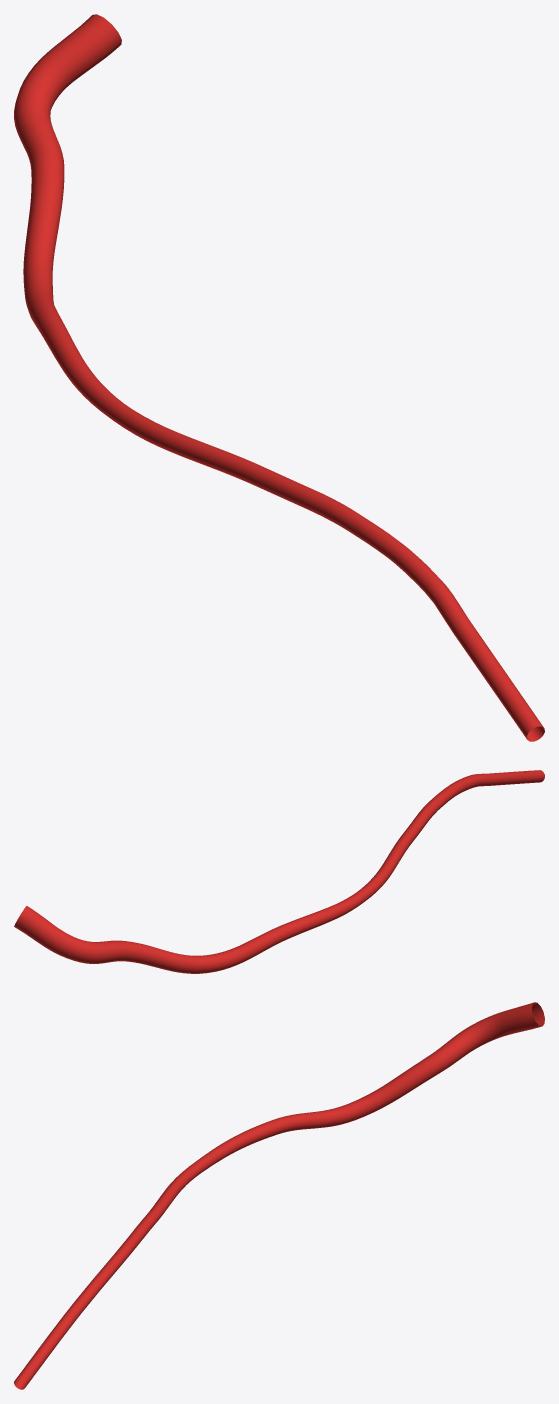
The model's file is circulatorio-maxillary-veins-l.glb.
3 views of the same model, one above another, from view 1: azimuth 30°, elevation 25°; view 2: azimuth 150°, elevation 25°; view 3: azimuth 330°, elevation 25° (orthographic). The views are drawn at different scales.
Parts seen in each view (by area): view 1: Maxillary veins.l; view 2: Maxillary veins.l; view 3: Maxillary veins.l.
Part boxes in pixels (left/top/right/bottom): Maxillary veins.l: left=14, top=14, right=544, bottom=741; Maxillary veins.l: left=14, top=770, right=544, bottom=973; Maxillary veins.l: left=14, top=1002, right=544, bottom=1389.
Size of the model in its own units: 0.016 by 0.0113 by 0.0624.
